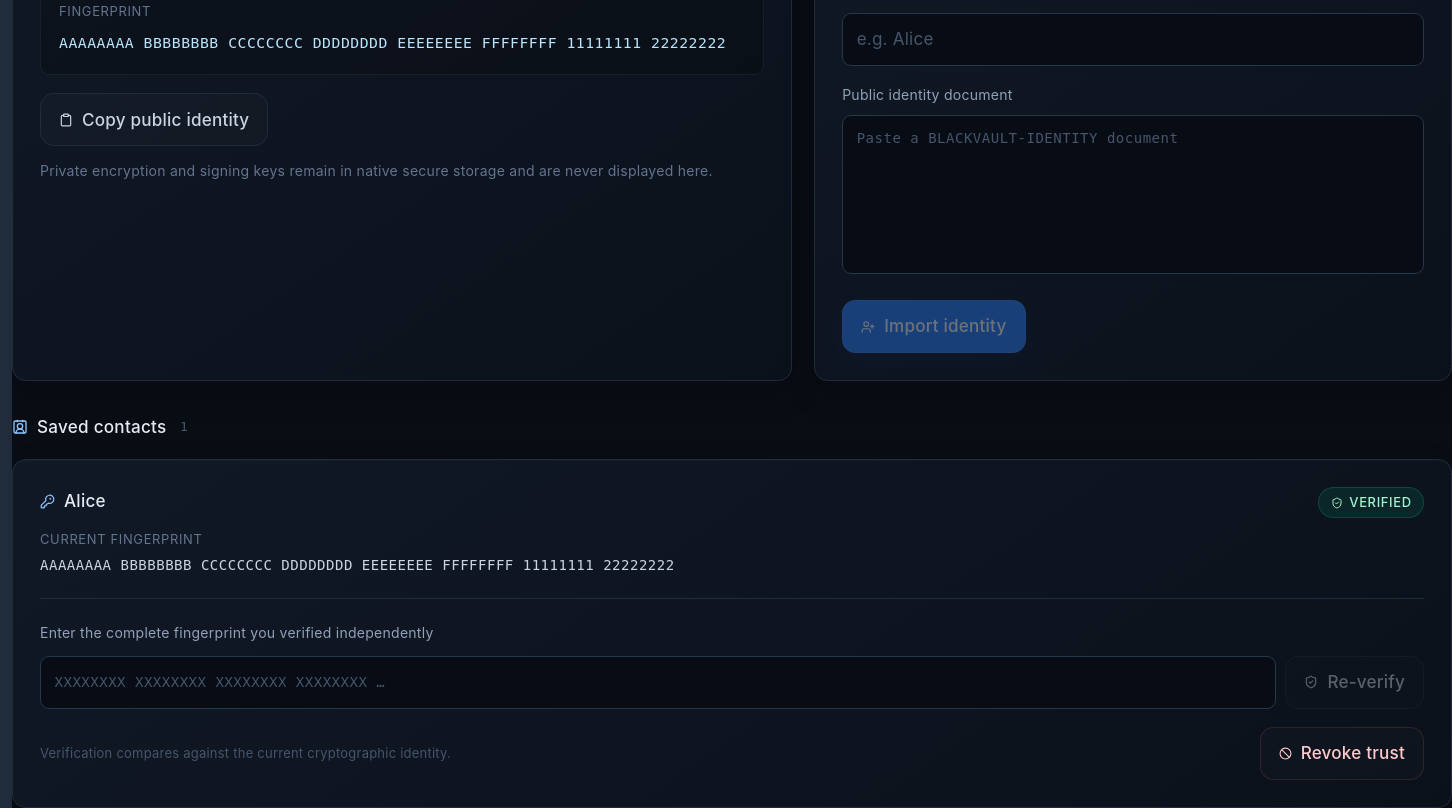
Test: keeps revoked contacts visible without a verification action
(page scrolled)
Click the button "Revoke trust" at (1342, 753), box x1=1260 y1=727 x2=1424 y2=780
(page scrolled)
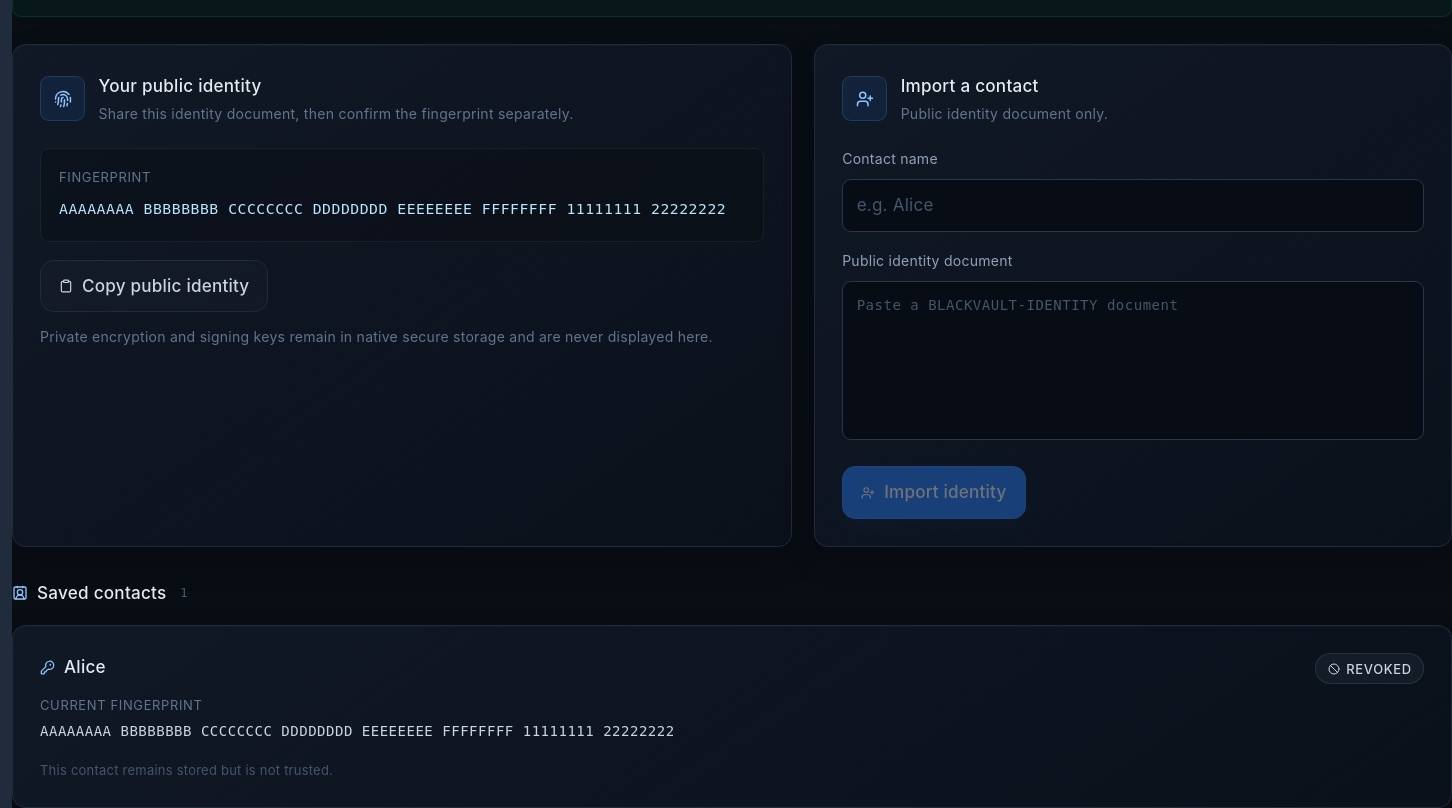
Expected: the text "This contact remains stored but is not trusted." is shown, x1=40 y1=760 x2=333 y2=780
